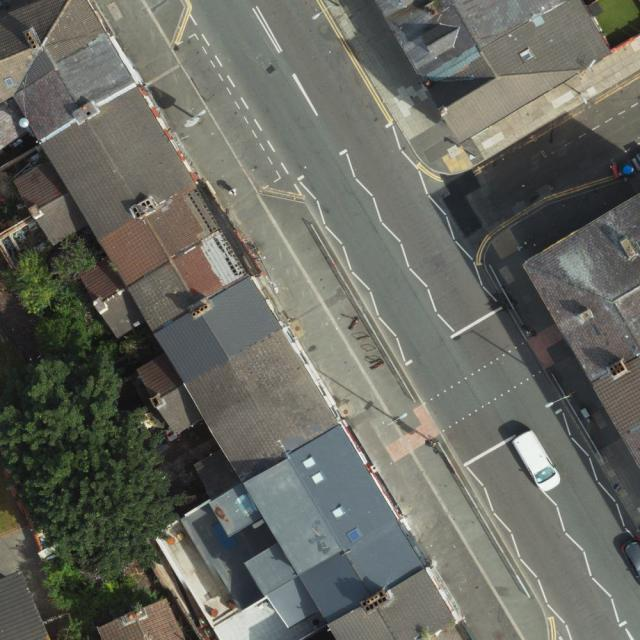roof: (0, 0, 458, 640), (374, 0, 611, 144), (524, 192, 640, 468), (96, 598, 186, 640), (0, 570, 51, 640)
skylight: (345, 525, 365, 545), (330, 503, 349, 522), (310, 468, 328, 487), (517, 48, 537, 65), (300, 453, 319, 470)
